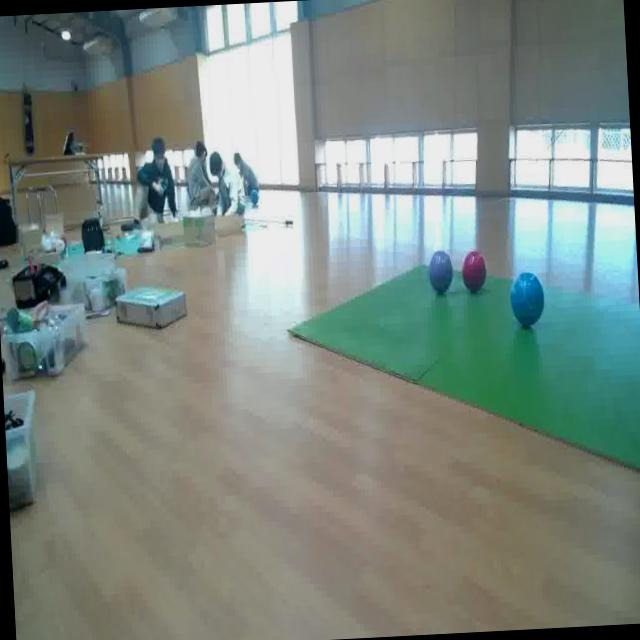blue_ball: (509, 272, 546, 327)
purple_ball: (428, 250, 454, 294)
red_ball: (461, 249, 488, 291)
